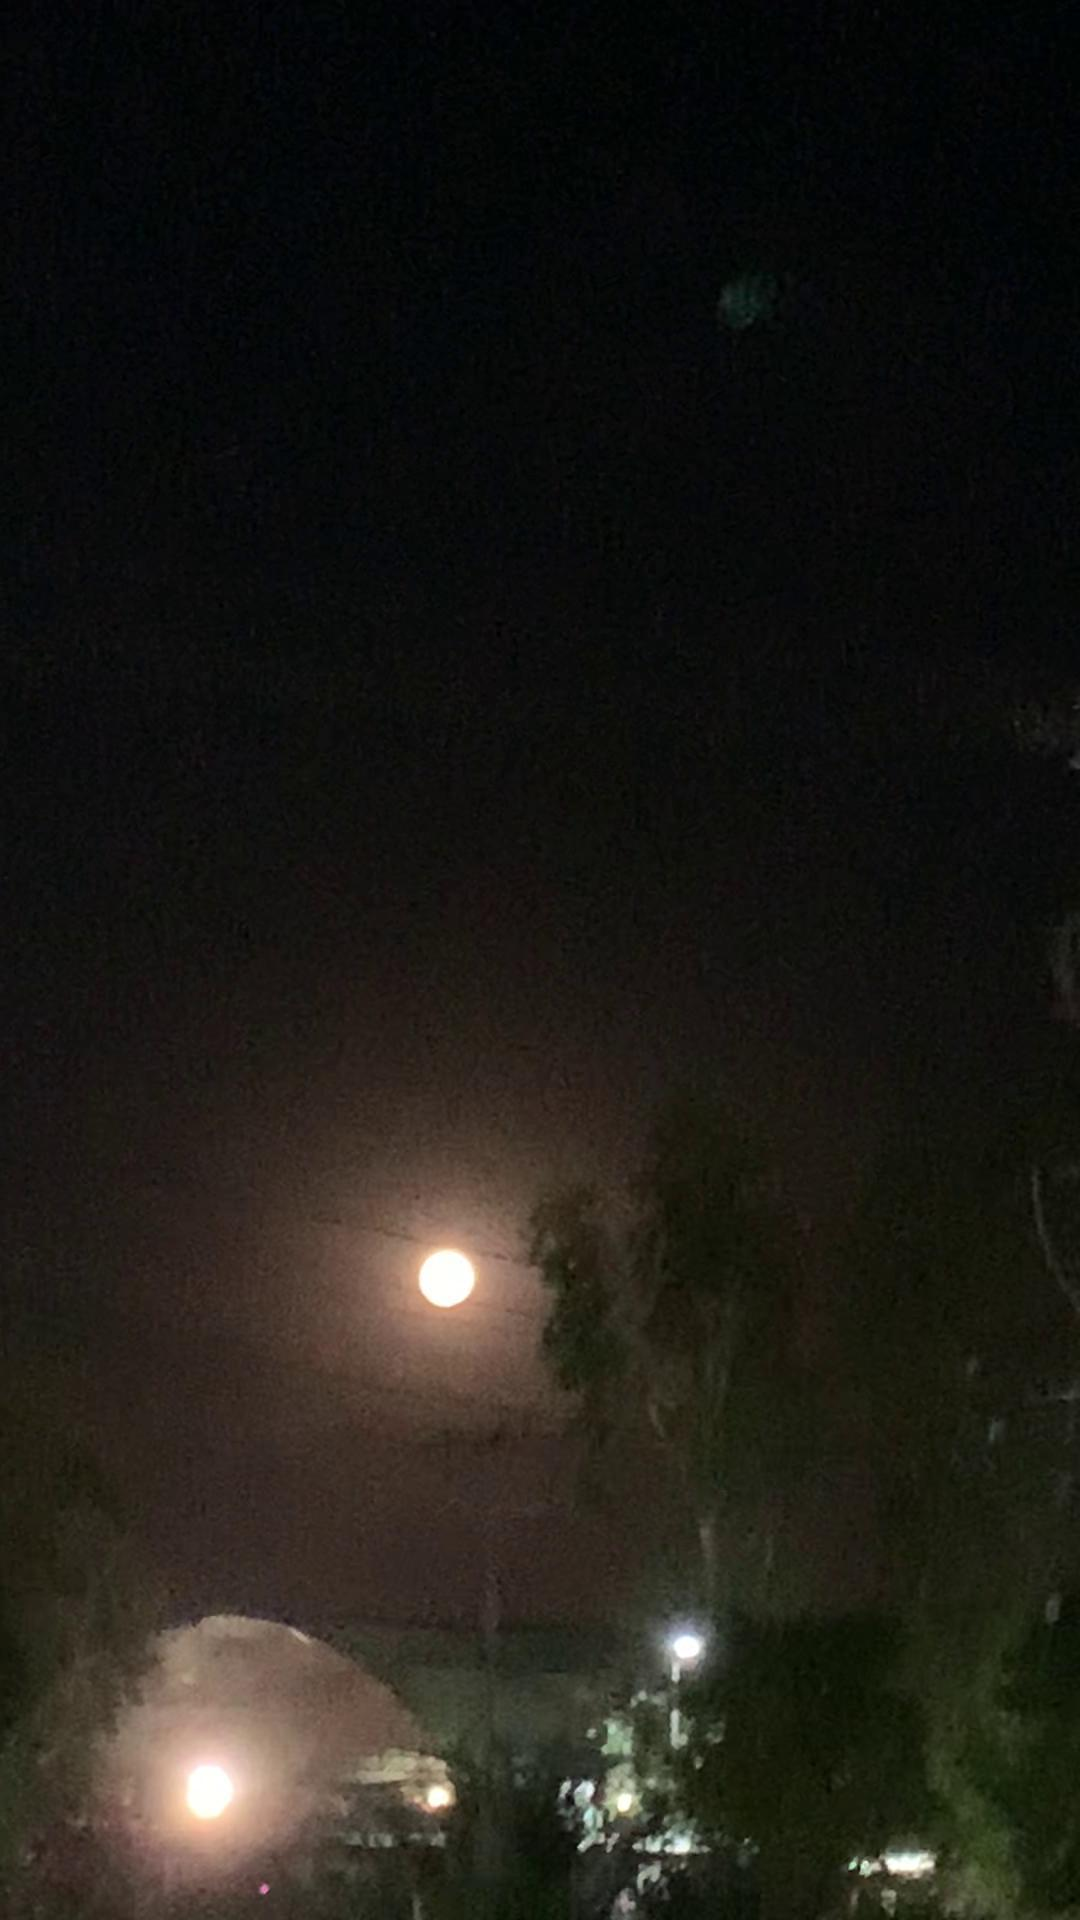moon: (405, 1249, 476, 1321)
